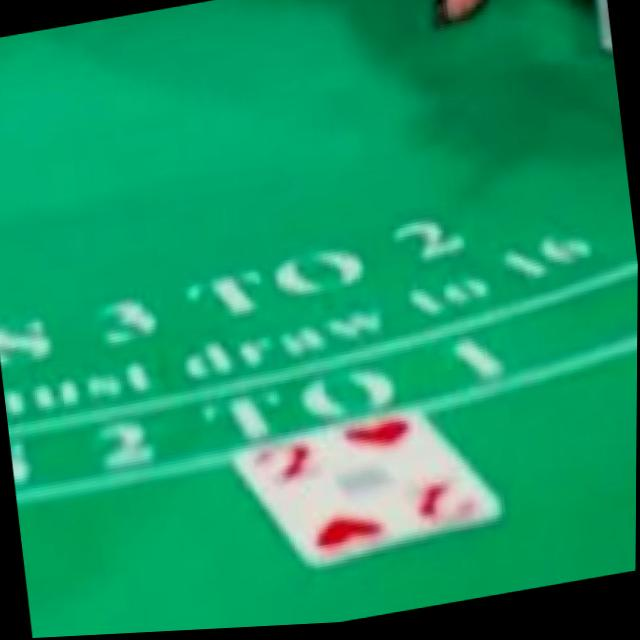Card-2: (229, 409, 506, 573)
